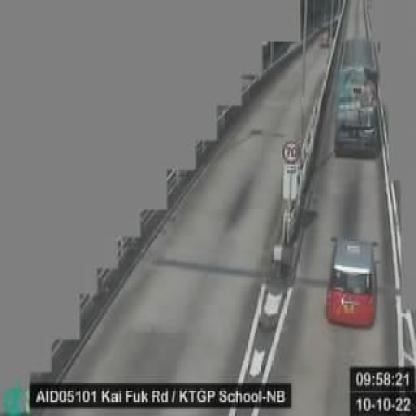Bus: (333, 39, 378, 161)
Car: (324, 238, 379, 328)
